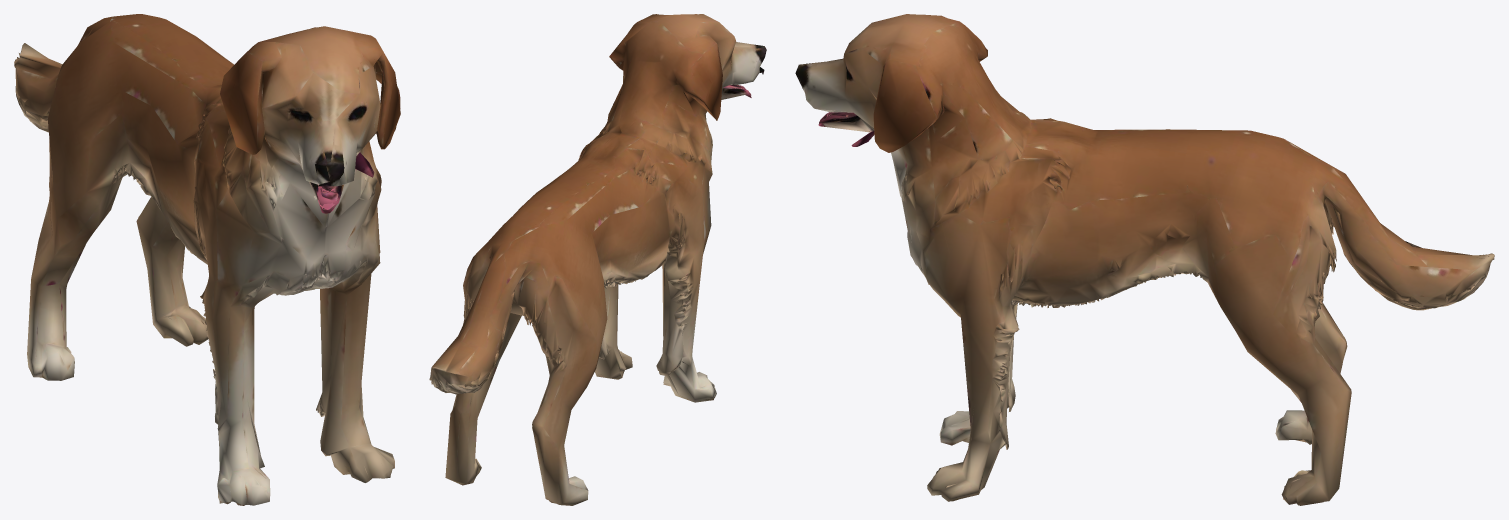
File: model_dog.glb
The picture shows the model from 3 angles, left to right: view 1: azimuth 30°, elevation 25°; view 2: azimuth 150°, elevation 25°; view 3: azimuth 270°, elevation 25°; orthographic projection. The views are drawn at different scales.
Visible parts, largest first — view 1: world; view 2: world; view 3: world.
Boxes of the visible parts, box(x1,y1,x2,y2) form: world: box(14, 14, 400, 505); world: box(429, 14, 766, 505); world: box(795, 14, 1494, 505).
Size of the model in its own units: 0.2781 by 0.7021 by 1.
1 material, 1 textured.
